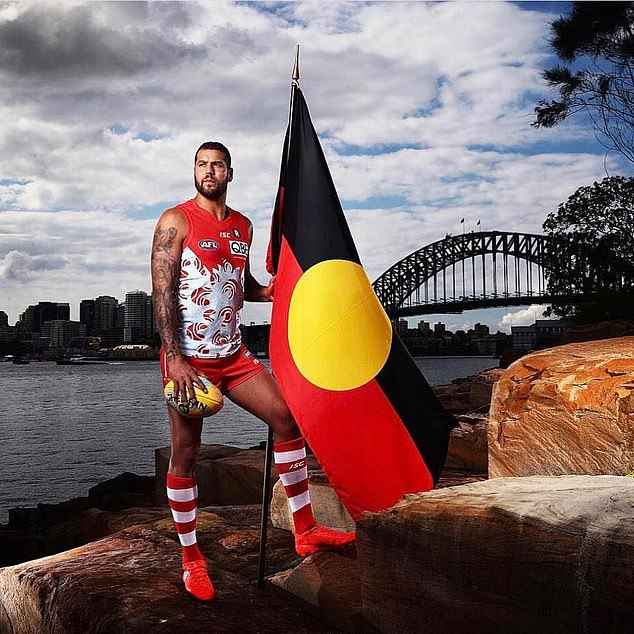aboriginal_flag: (254, 71, 479, 531)
